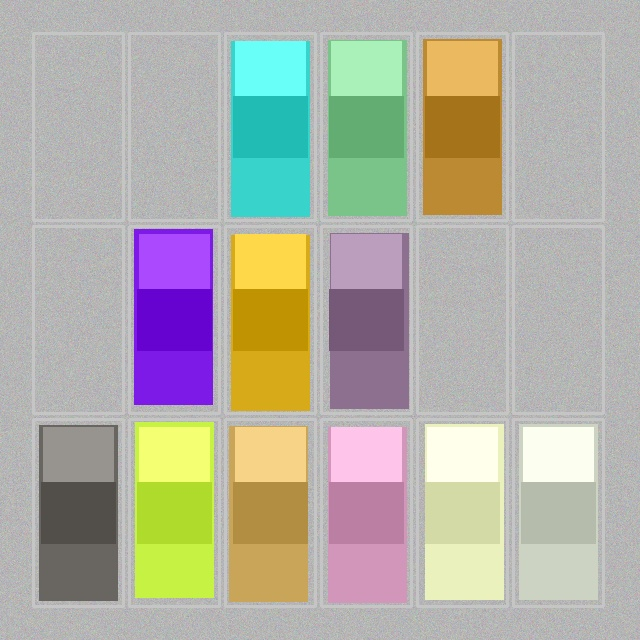space-empty: (35, 35, 121, 218), (131, 35, 217, 218), (515, 35, 601, 218), (35, 228, 121, 411), (419, 228, 505, 411), (515, 228, 601, 411)
space-occupied: (227, 35, 313, 218), (323, 35, 409, 218), (419, 35, 505, 218), (131, 228, 217, 411), (227, 228, 313, 411), (323, 228, 409, 411), (35, 421, 121, 604), (131, 421, 217, 604), (227, 421, 313, 604), (323, 421, 409, 604), (419, 421, 505, 604), (515, 421, 601, 604)
